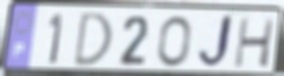1: (47, 12, 64, 67)
2: (117, 14, 150, 67)
D: (71, 11, 115, 69)
H: (232, 16, 277, 70)
J: (195, 13, 235, 72)
O: (157, 15, 193, 69)
